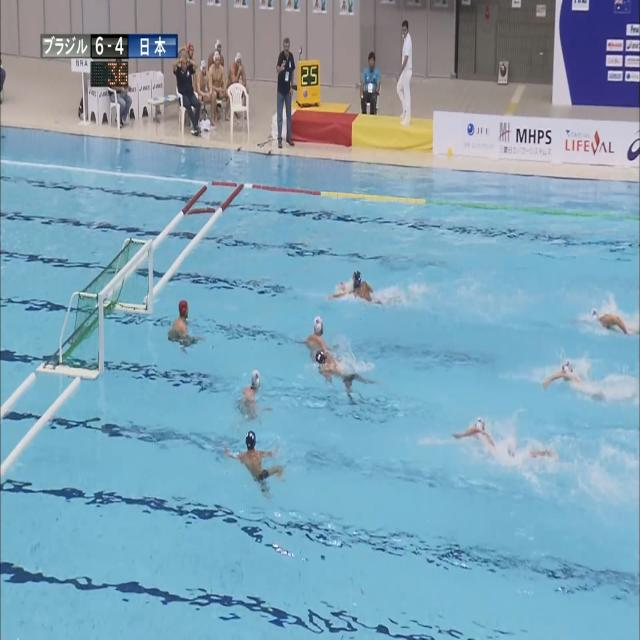ball: (339, 282, 347, 294)
